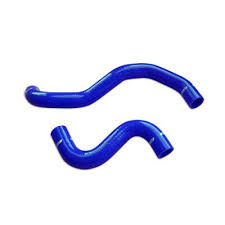radiator_hose: (26, 64, 204, 109), (51, 119, 175, 169)
